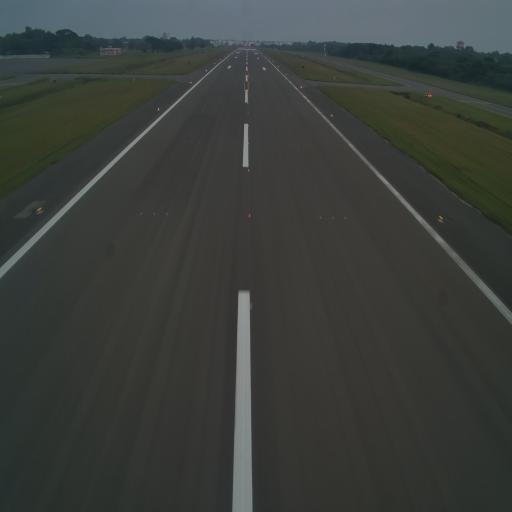off: (342, 211, 348, 225), (329, 211, 337, 220), (152, 208, 157, 220), (317, 212, 323, 222), (138, 209, 144, 218), (166, 208, 170, 220)
on: (34, 203, 44, 215), (246, 209, 254, 224), (245, 164, 252, 176), (247, 300, 254, 311), (437, 212, 443, 224)
